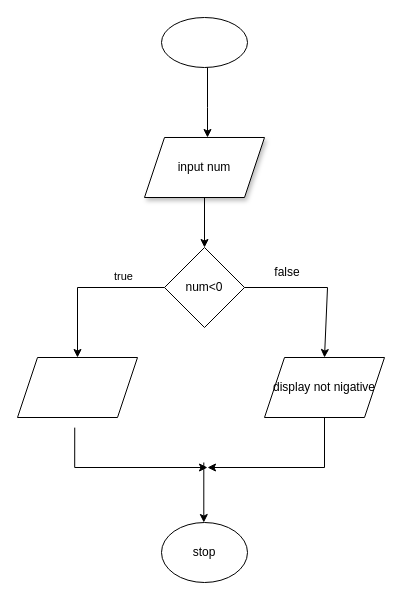
This 402x600 diagram has some shape labels left out. Here are the shapes that lost their labels. From the top down, the centre of each, then its label:
At point (204, 42): "start".
At point (77, 387): "display negative".
